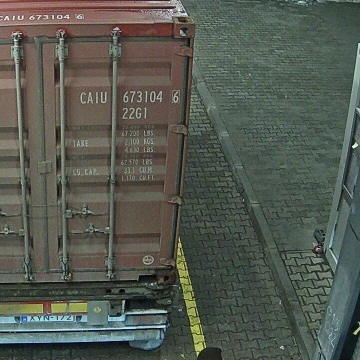serial_id: (80, 91, 179, 103)
